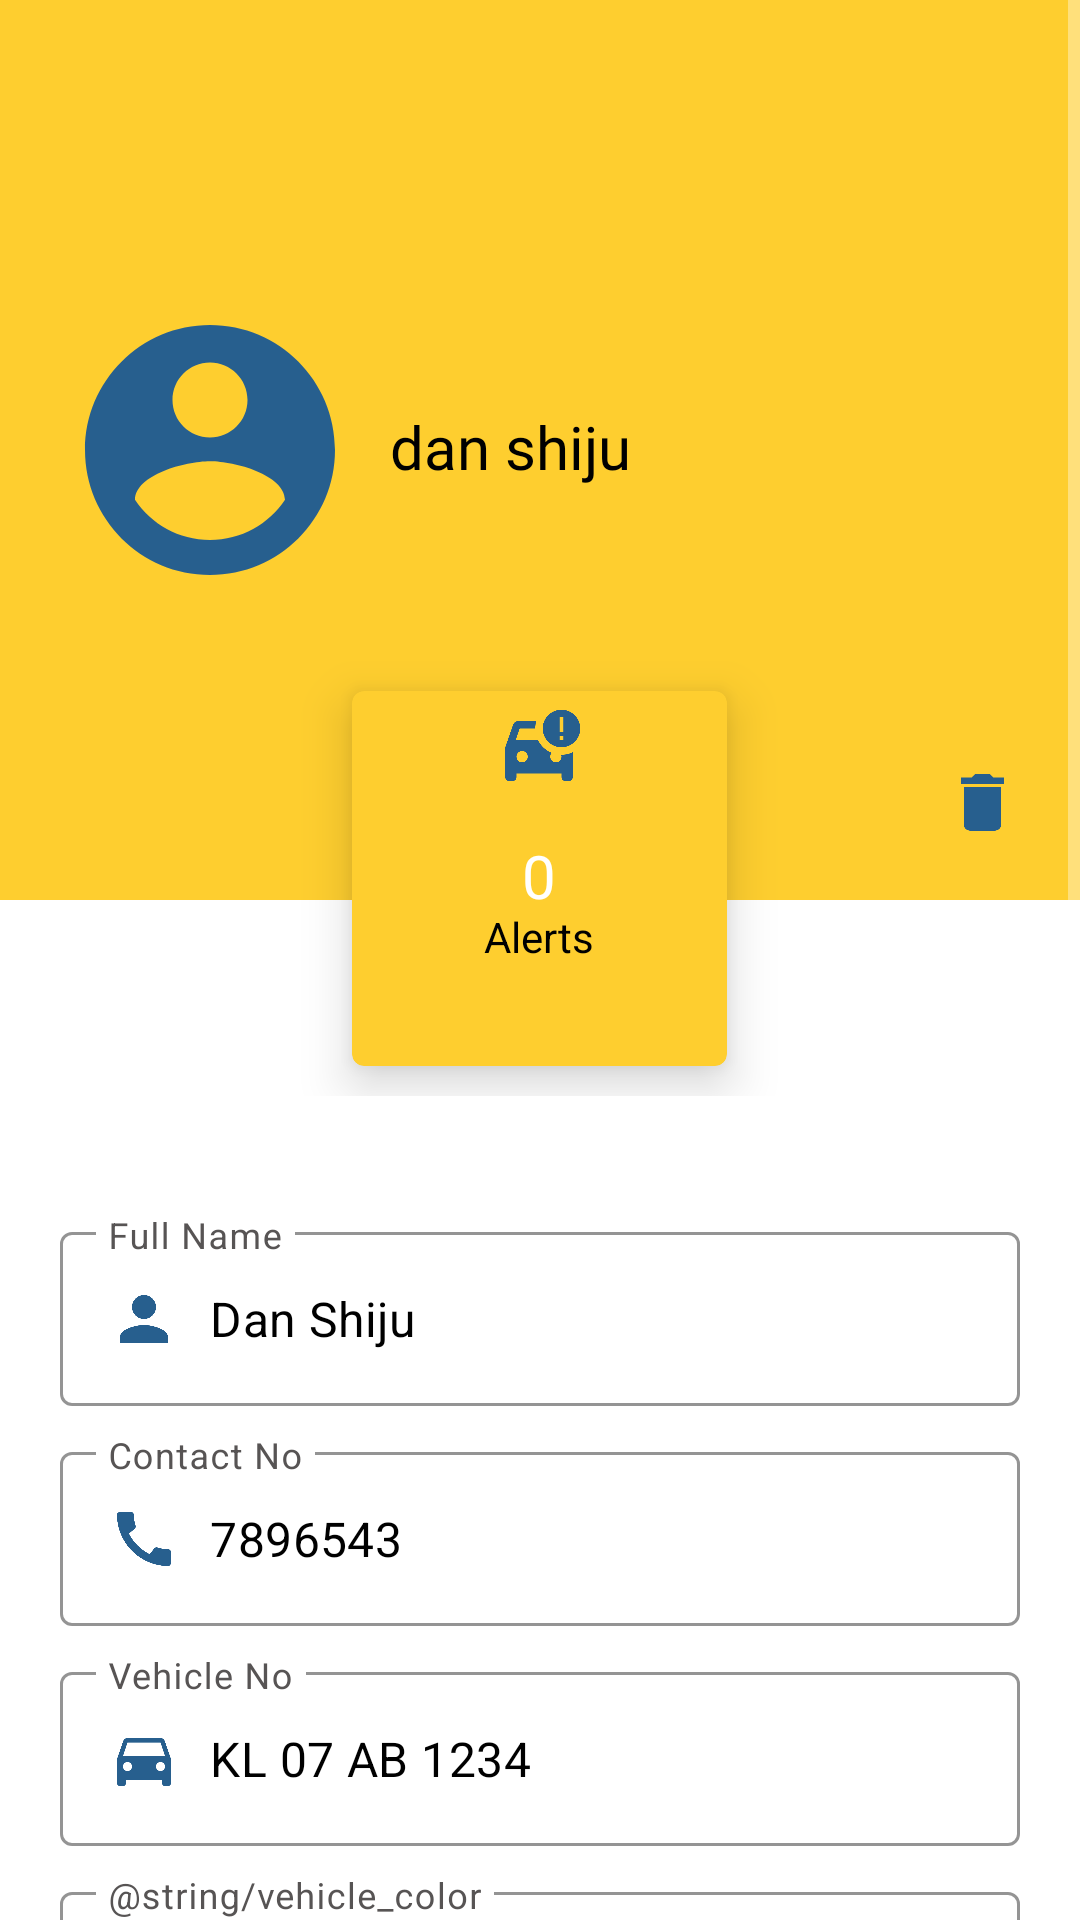

Icons on this 1080x1920 Android screen, each with the point to tap as (x,y):
delete: (982,802)
profile: (210,450)
